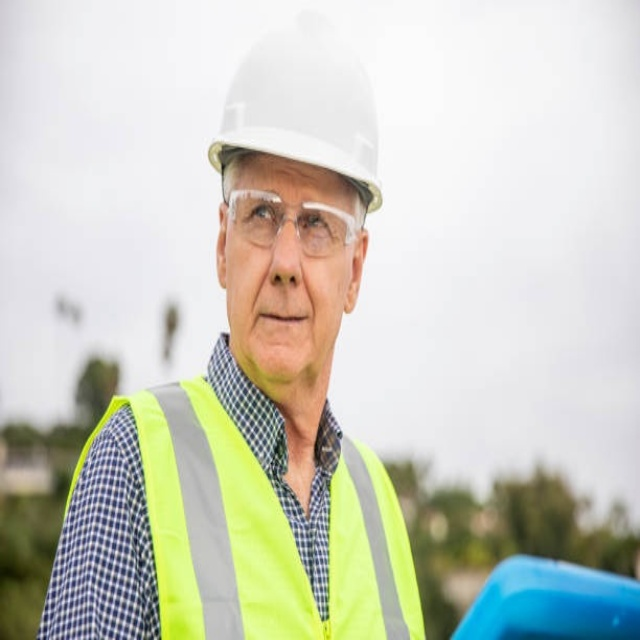Gafas: (224, 189, 363, 256)
Sin_mascara: (249, 295, 322, 369)
